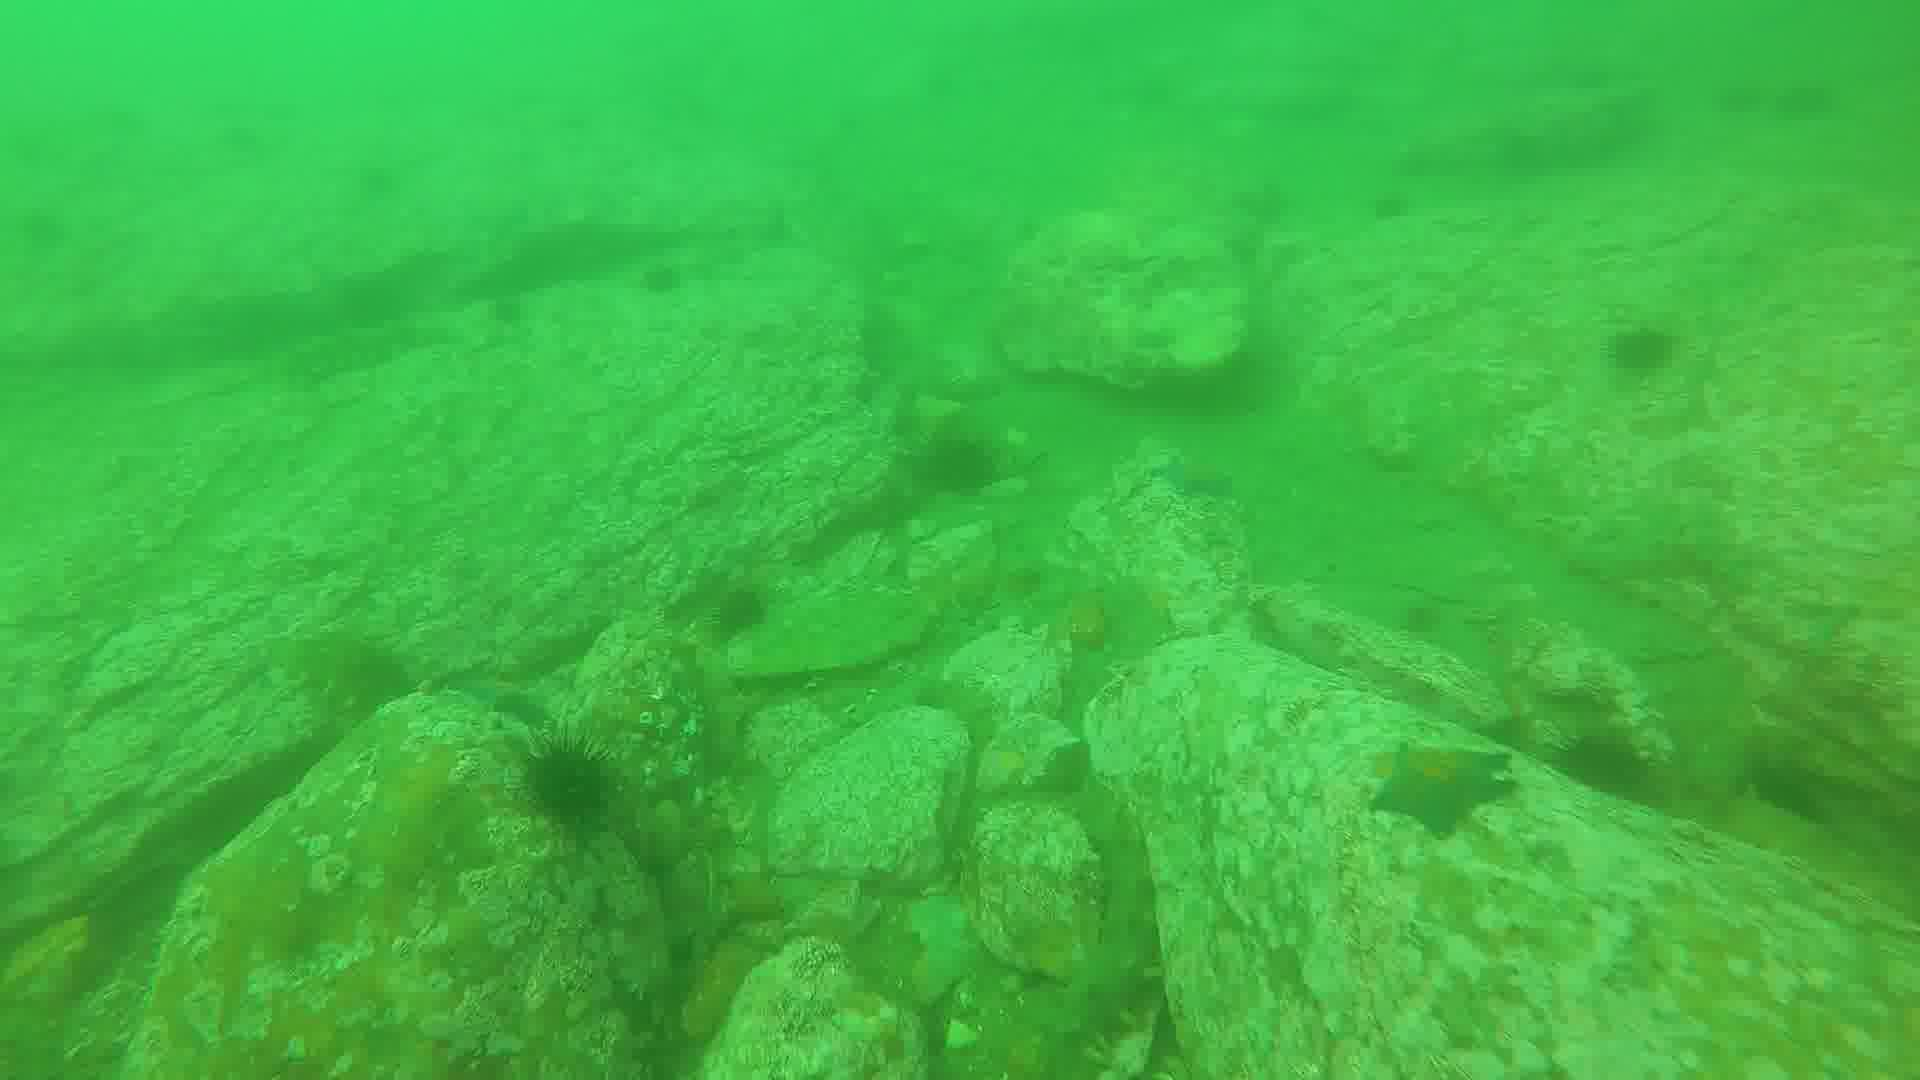echinus: (1557, 727, 1662, 814), (526, 732, 621, 824), (924, 435, 993, 497), (1607, 328, 1677, 375), (709, 589, 773, 638)
holothurian: (1060, 894, 1180, 1058)
starfish: (1366, 740, 1514, 839), (1149, 455, 1237, 504)
